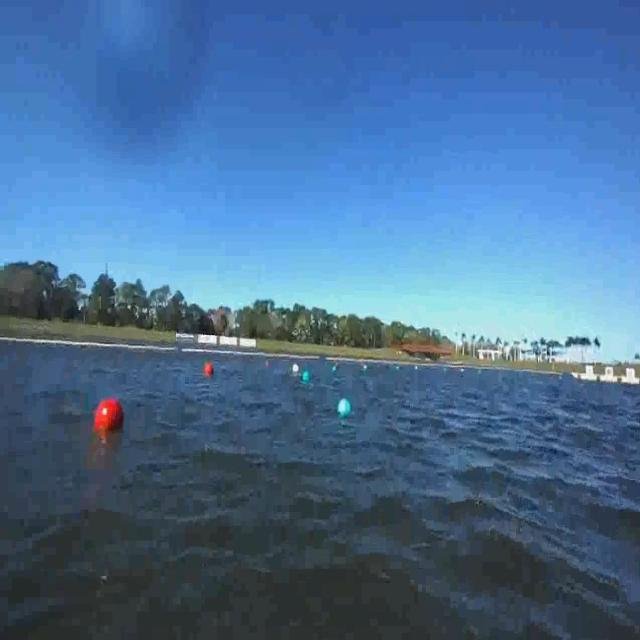green-buoy: (337, 395, 353, 423), (303, 370, 311, 384)
red-buoy: (93, 396, 126, 436), (204, 361, 214, 376)
